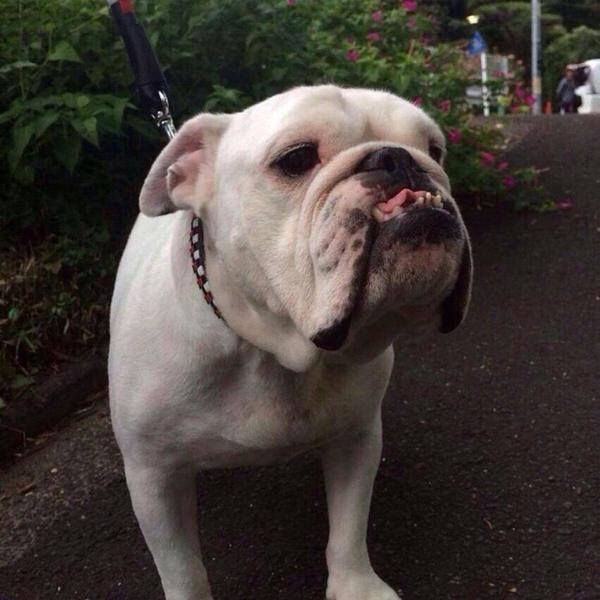dog: (140, 74, 490, 362)
